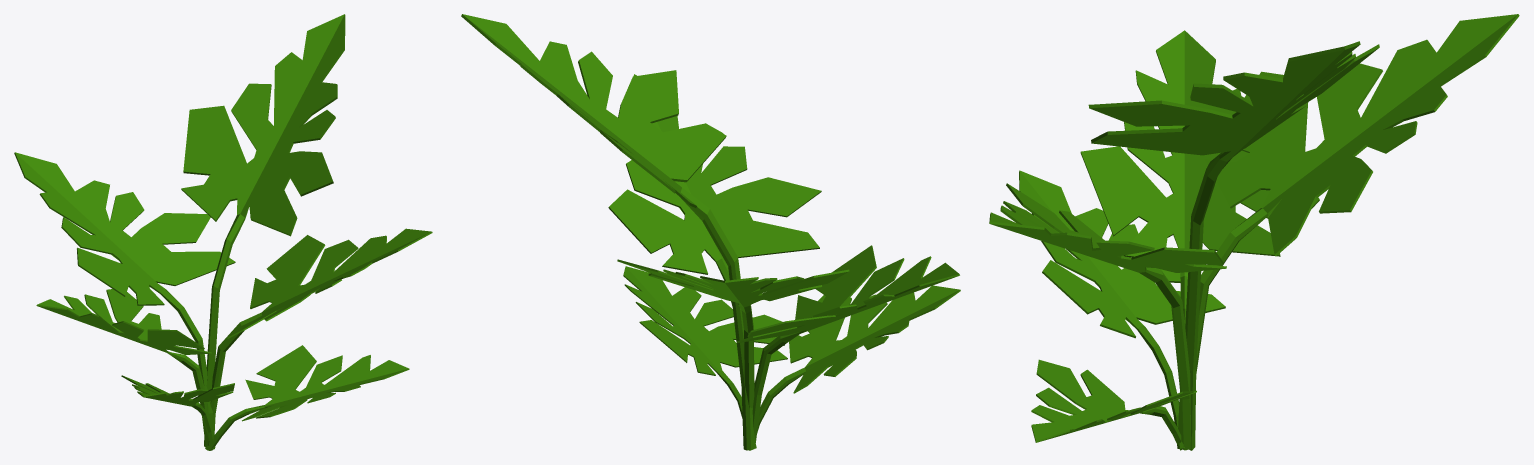
Rendered from Plant_d_03.fbx.
3 views of the same model, side by side, from view 1: azimuth 30°, elevation 25°; view 2: azimuth 150°, elevation 25°; view 3: azimuth 270°, elevation 25° (orthographic). The views are drawn at different scales.
Visible parts, largest first — view 1: Plant_d_03_LOD0; view 2: Plant_d_03_LOD0; view 3: Plant_d_03_LOD0.
Part boxes in pixels (x1,y1,x2,y2): Plant_d_03_LOD0: (14, 14, 432, 450); Plant_d_03_LOD0: (461, 14, 960, 450); Plant_d_03_LOD0: (989, 14, 1519, 450).
Size of what is drawn, in the model's own units: 11.53 by 10.75 by 9.49.
